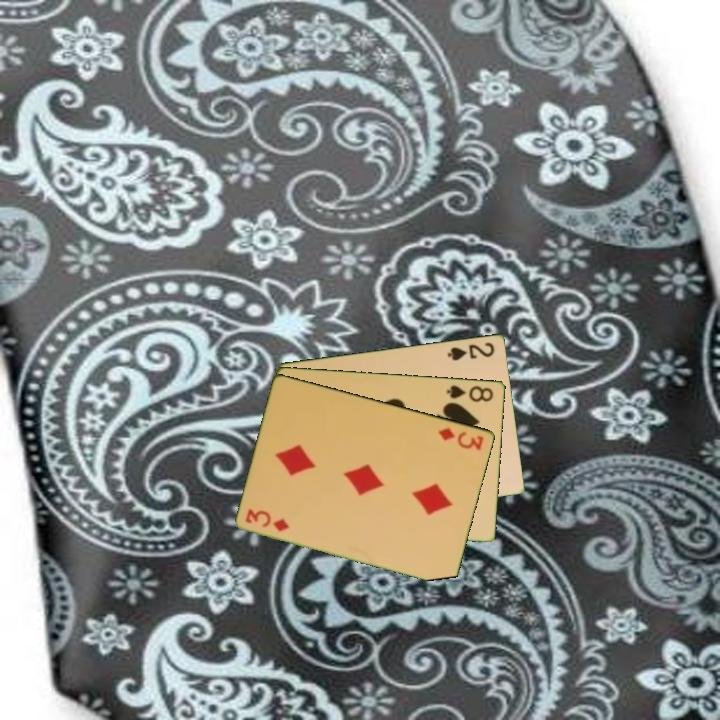2s: (444, 338, 498, 363)
3d: (435, 424, 487, 453), (242, 505, 292, 534)
8s: (444, 381, 496, 405)
